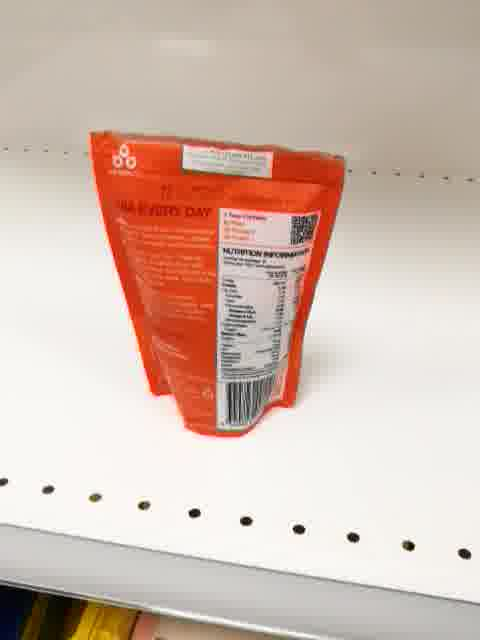whitechia: (87, 123, 350, 441)
